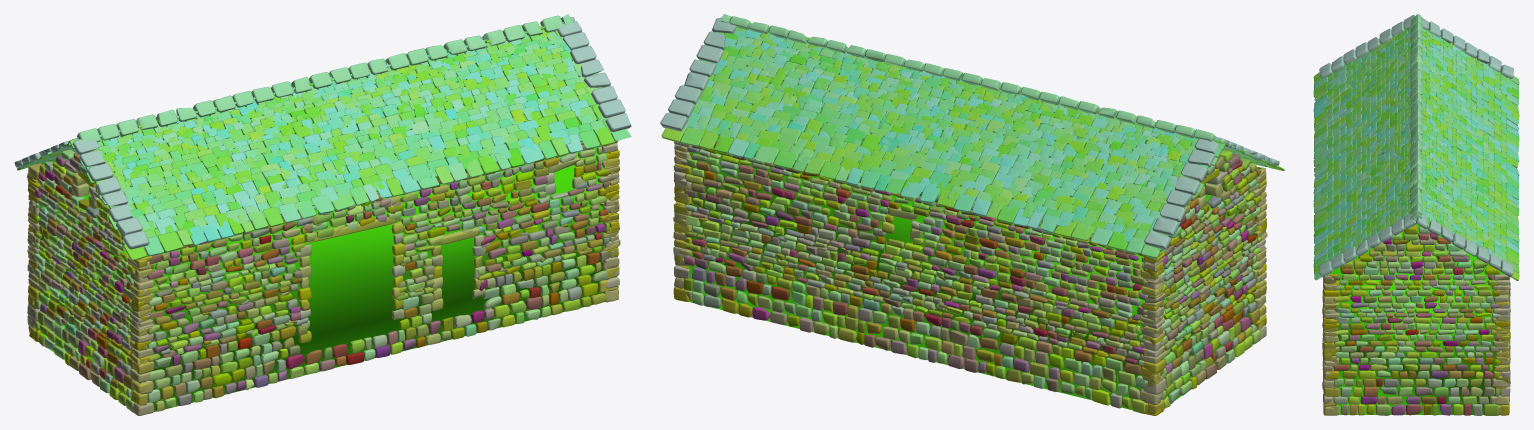
File: SM_Barn_15.glb
3 renders of one model, left to right at view 1: azimuth 30°, elevation 25°; view 2: azimuth 150°, elevation 25°; view 3: azimuth 270°, elevation 25°, orthographic. The views are drawn at different scales.
Visible parts, largest first — view 1: SM_Barn_15; view 2: SM_Barn_15; view 3: SM_Barn_15.
Part boxes in pixels (x1=…): SM_Barn_15: x1=14, y1=14, x2=631, y2=415; SM_Barn_15: x1=660, y1=14, x2=1284, y2=415; SM_Barn_15: x1=1313, y1=14, x2=1519, y2=415.
Size of the model in its own units: 15.77 by 7.28 by 6.62.
